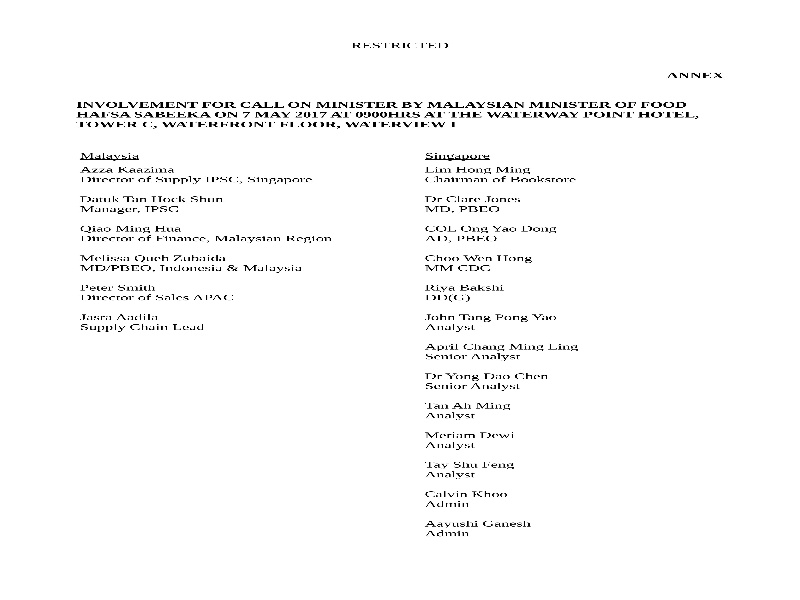borderless: (74, 145, 589, 544)
cell: (78, 223, 335, 246), (78, 252, 304, 277), (78, 165, 316, 188), (78, 281, 237, 306), (79, 192, 229, 217), (423, 342, 587, 363), (424, 369, 554, 395), (78, 310, 207, 336), (424, 221, 561, 245), (423, 166, 582, 185), (423, 310, 560, 332), (425, 253, 535, 276), (424, 517, 537, 539), (424, 485, 516, 512), (424, 193, 527, 215), (423, 429, 521, 452), (424, 398, 515, 422), (424, 458, 523, 480), (424, 282, 519, 303), (422, 148, 493, 163), (78, 151, 142, 163)
